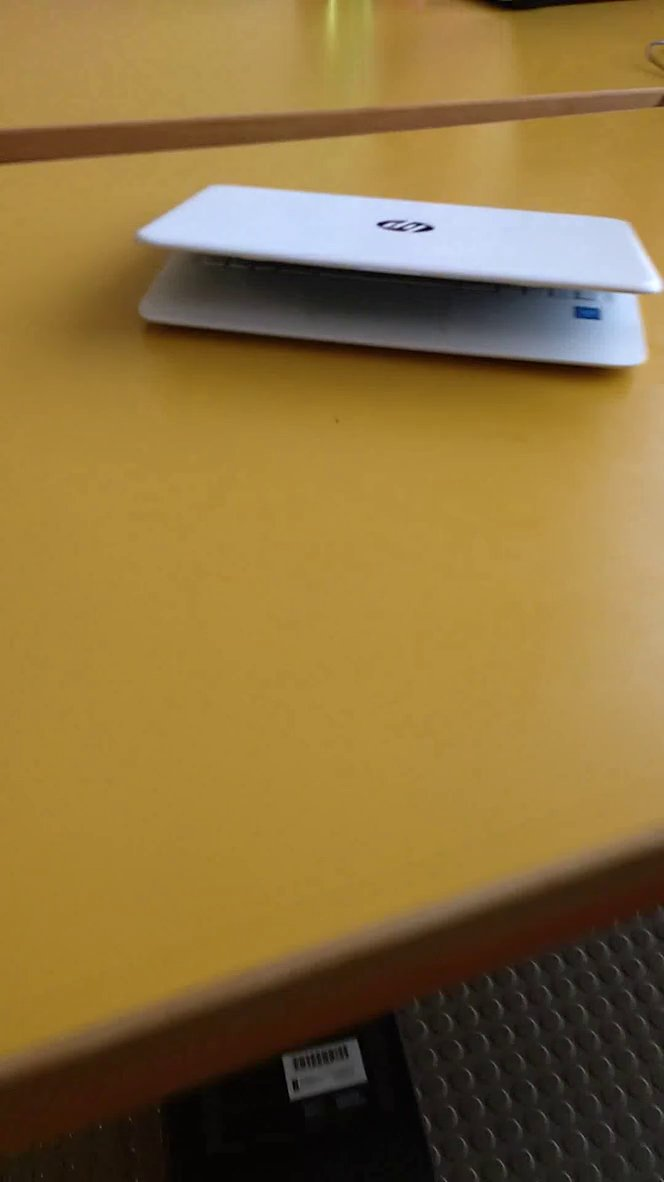laptop: (123, 167, 664, 387)
